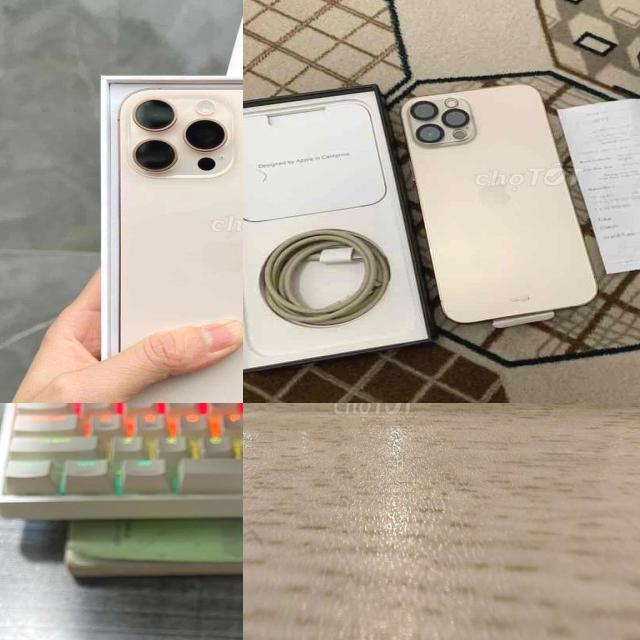gen_12_13: (389, 84, 612, 328)
gen_16: (107, 79, 243, 403)
